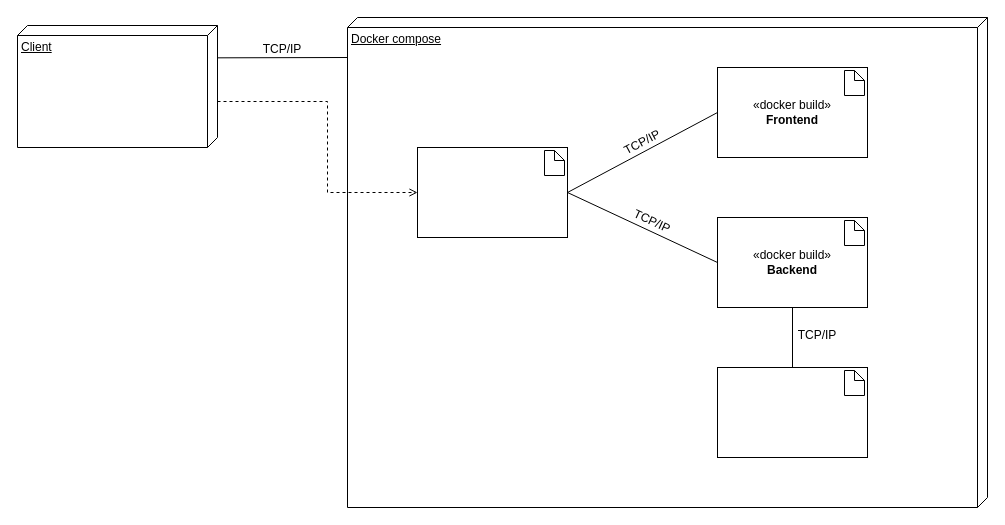
The diagram is 1005 pixels wide and 525 high, and some of its shapes have lost their labels. Here are the shapes that lost their labels. From the top down, the box of each, then its label:
(416, 146, 568, 238): «docker build» Edge
(716, 366, 868, 458): «docker image» PostgreSQL
